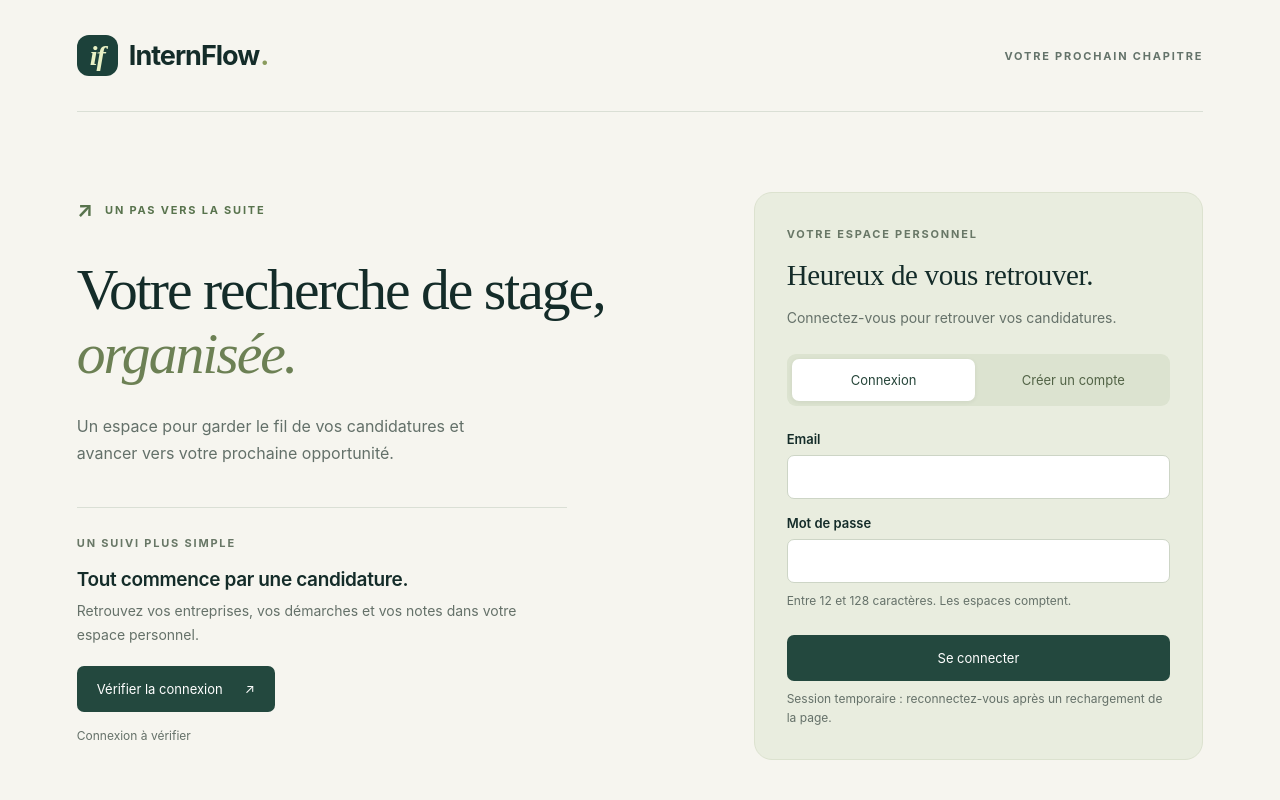
Scenario: handles network failure with a retryable message
Click the button "Vérifier la connexion ↗" at (176, 689), box [77,666,275,712]
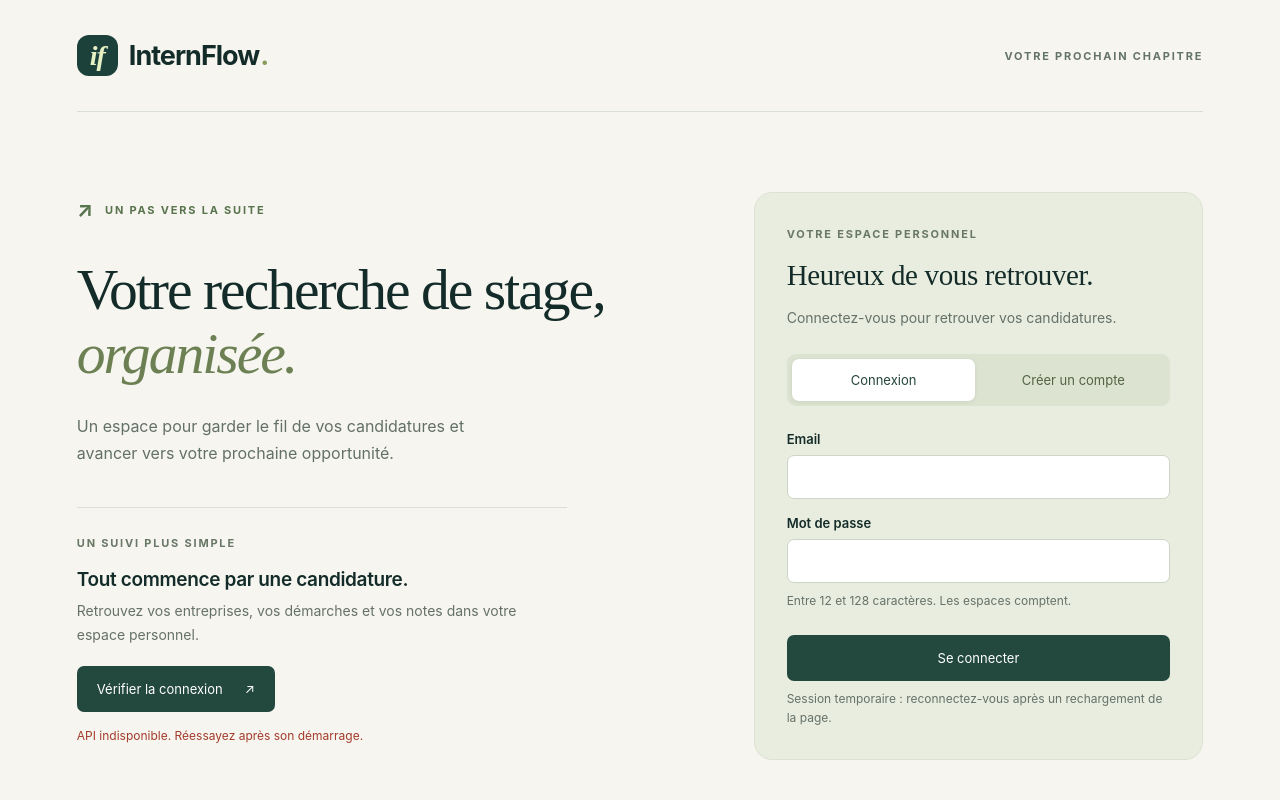
Check: the text "API indisponible. Réessayez après son démarrage." is shown, box [77,728,363,743]
